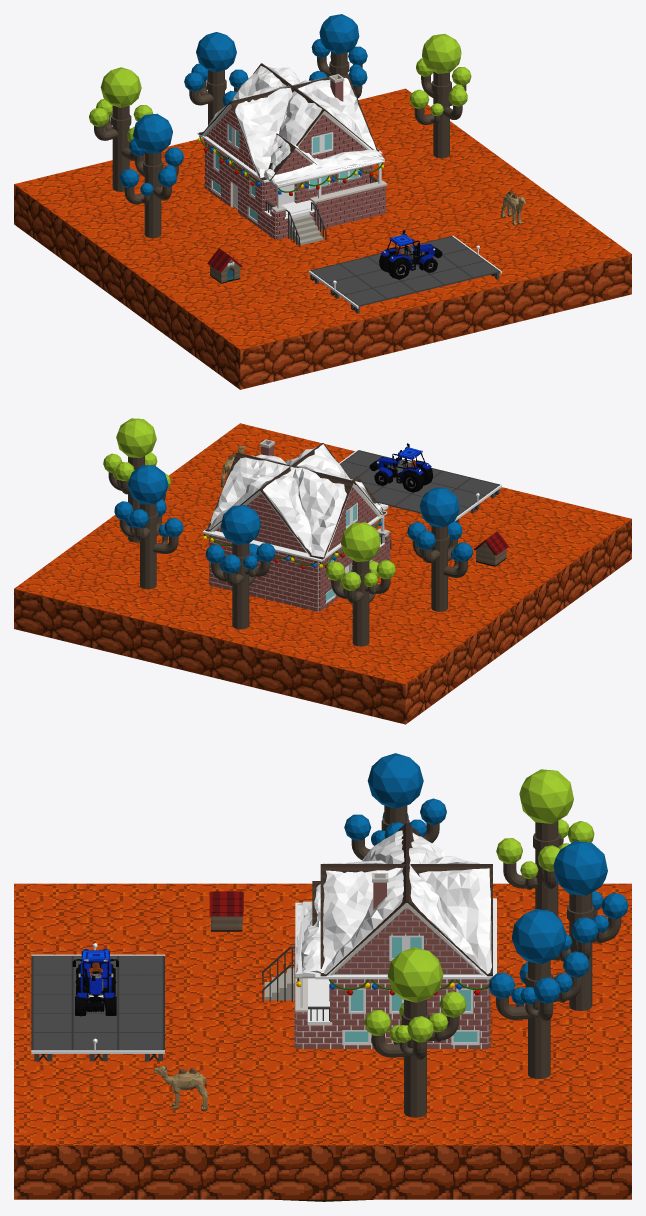
The picture shows the model from 3 angles, top to bottom: view 1: azimuth 30°, elevation 25°; view 2: azimuth 150°, elevation 25°; view 3: azimuth 270°, elevation 25°; orthographic projection. The views are drawn at different scales.
Visible parts, largest first — view 1: Cube.001, Cube.1419, VEHICLES_TRACTOR, OBJRANDOM_DOGHOUSE, ANIMAL_CAMELLO; view 2: Cube.001, Cube.1419, VEHICLES_TRACTOR, OBJRANDOM_DOGHOUSE; view 3: Cube.001, Cube.1419, VEHICLES_TRACTOR, OBJRANDOM_DOGHOUSE, ANIMAL_CAMELLO.
Part boxes in pixels (x1,y1,x2,y2): Cube.001: (14,14,631,389); Cube.1419: (197,63,387,246); VEHICLES_TRACTOR: (379,230,442,279); OBJRANDOM_DOGHOUSE: (207,248,242,283); ANIMAL_CAMELLO: (501,191,525,225); Cube.001: (14,418,631,724); Cube.1419: (202,439,391,611); VEHICLES_TRACTOR: (369,443,432,492); OBJRANDOM_DOGHOUSE: (473,531,508,566); Cube.001: (14,753,631,1199); Cube.1419: (262,823,497,1048); VEHICLES_TRACTOR: (72,949,118,1016); OBJRANDOM_DOGHOUSE: (209,891,243,931); ANIMAL_CAMELLO: (153,1064,207,1111).
Size of the model in its own units: 4000 by 1730 by 4000.
Materials: 45 (4 with a texture image).
